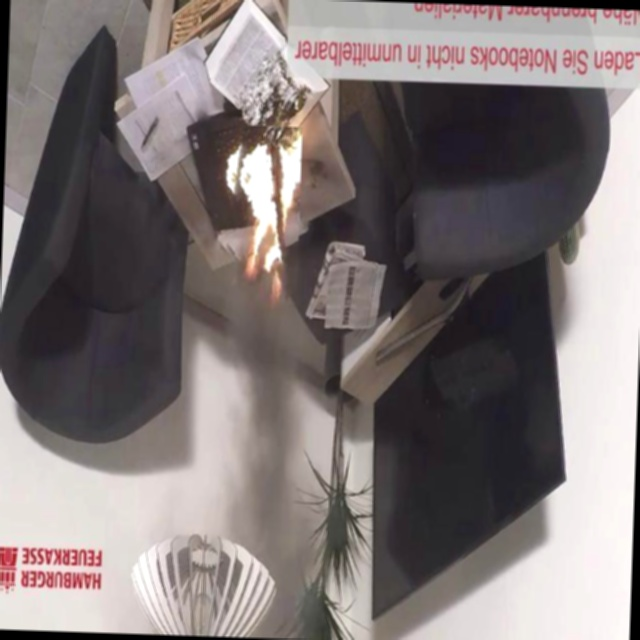fire: (215, 143, 299, 307)
